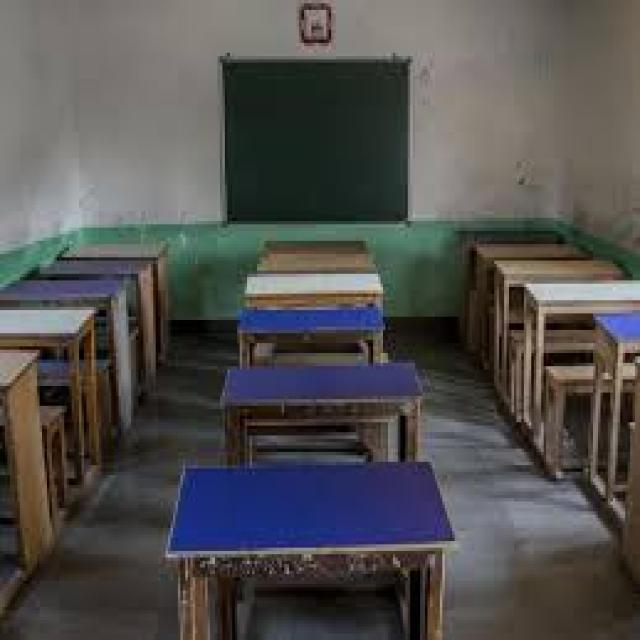Table ahead at: (172, 460, 453, 640), (219, 356, 425, 461), (233, 310, 384, 358), (524, 276, 640, 313), (0, 308, 96, 349), (3, 275, 127, 304)
